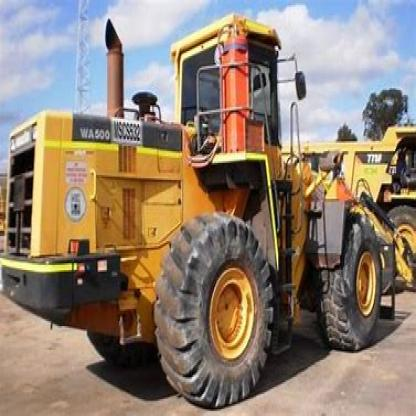bull_dozer/loader/grader: (6, 8, 410, 400)
